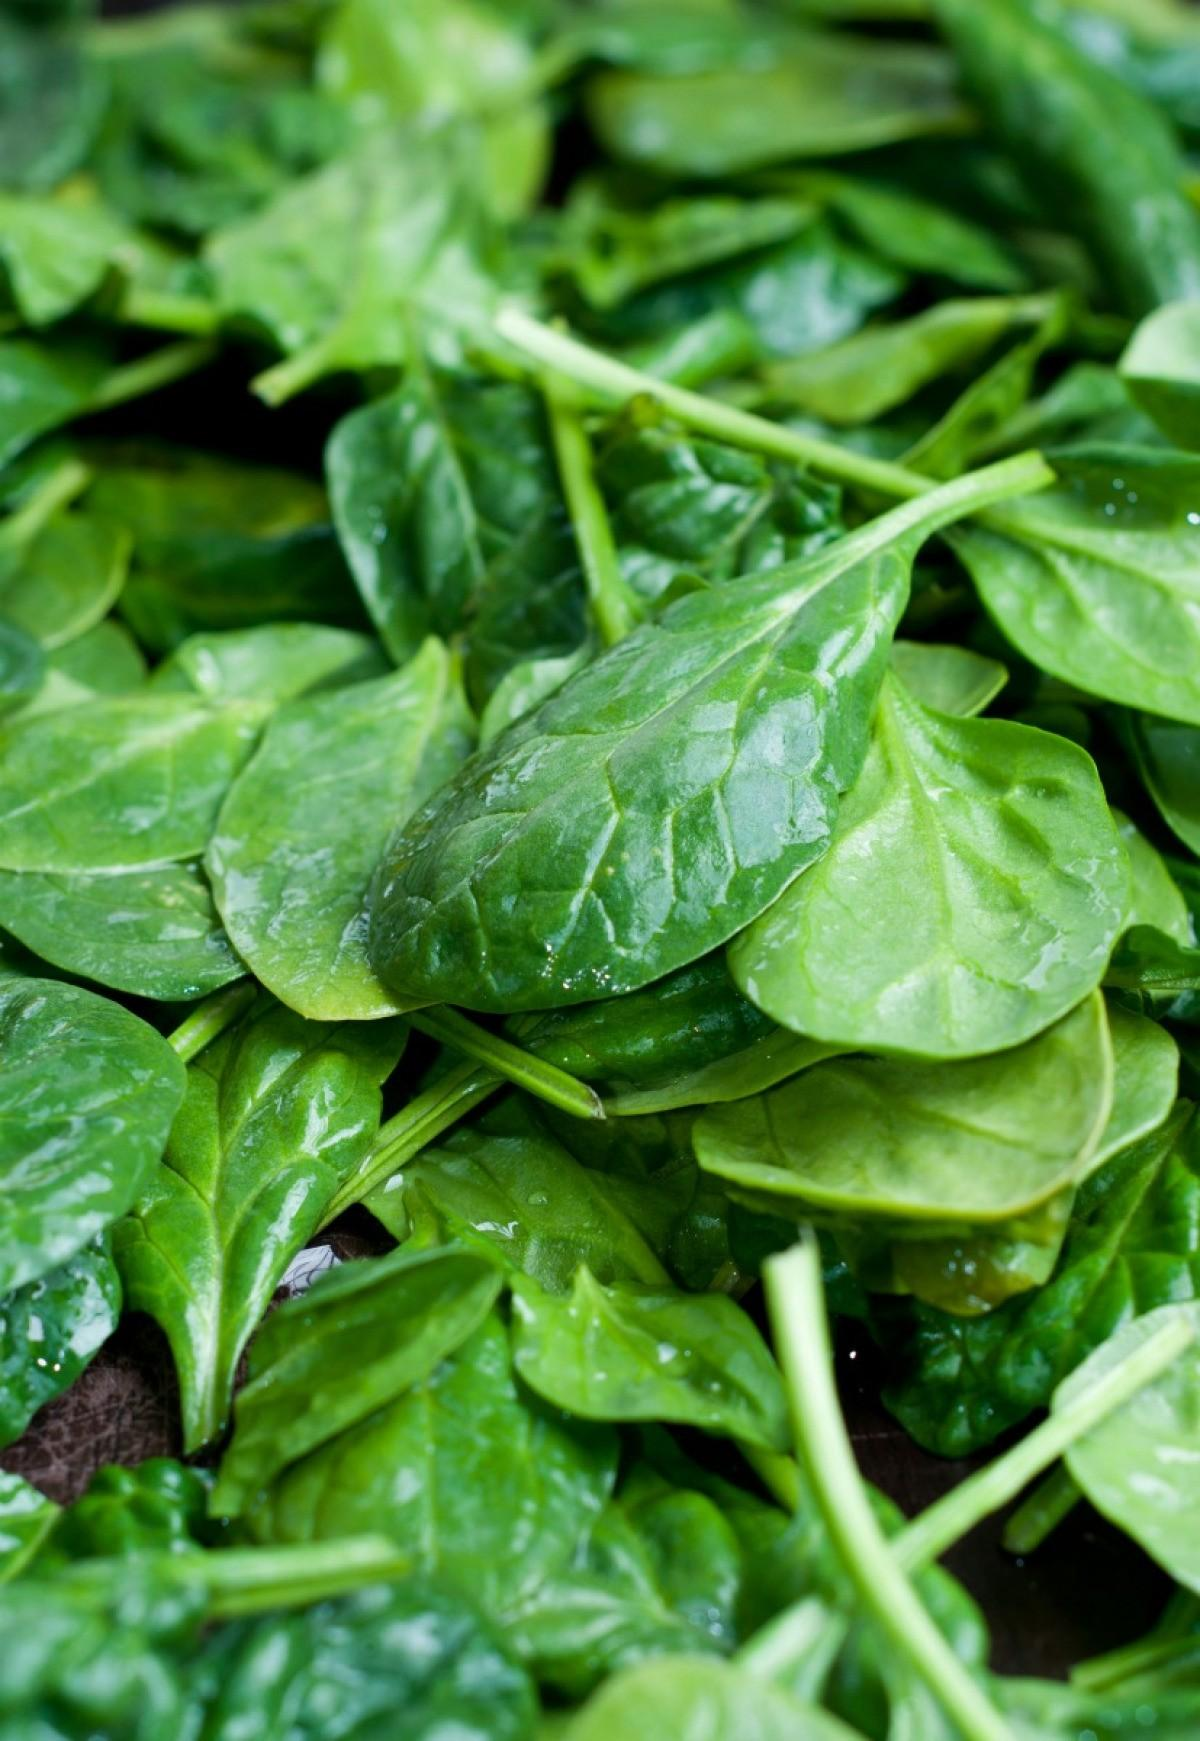ridge gourd: (357, 442, 1057, 1017)
spinach: (3, 3, 1196, 1736)
